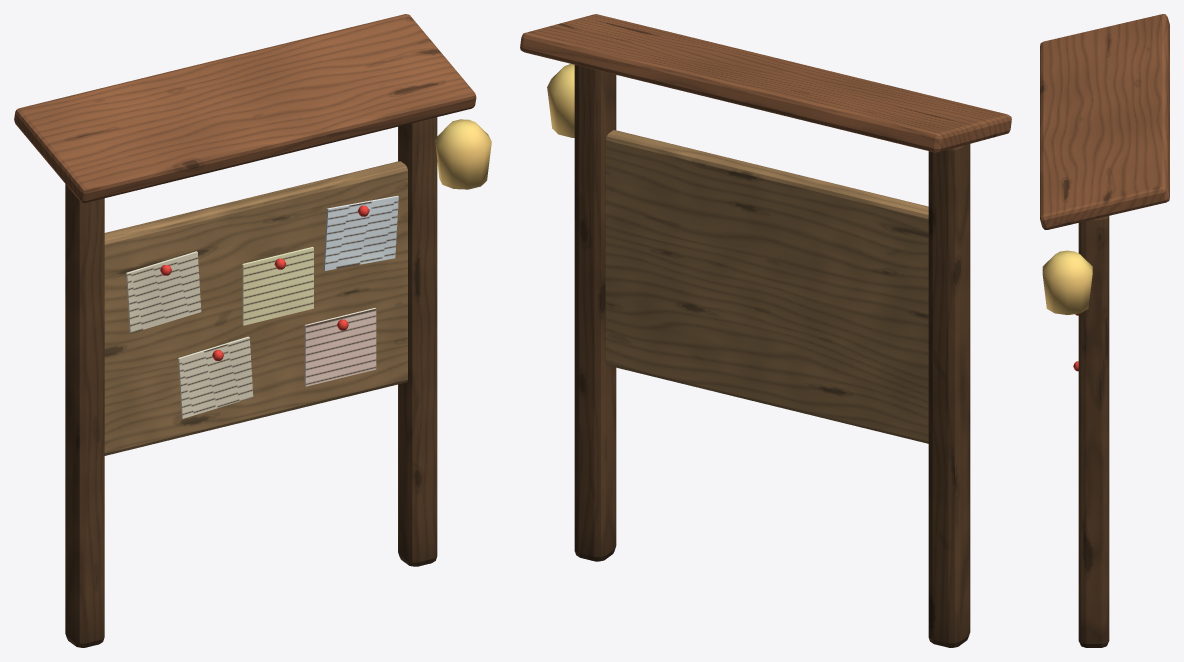
Rendered from order_board.glb.
3 views of the same model, side by side, from view 1: azimuth 30°, elevation 25°; view 2: azimuth 150°, elevation 25°; view 3: azimuth 270°, elevation 25° (orthographic). The views are drawn at different scales.
Parts seen in each view (by area): view 1: OrderBoard; view 2: OrderBoard; view 3: OrderBoard.
Boxes of the visible parts, x1,y1,x2,y2 form: OrderBoard: (14, 14, 491, 647); OrderBoard: (520, 14, 1011, 647); OrderBoard: (1040, 14, 1169, 647).
Size of the model in its own units: 2.02 by 2.36 by 0.5912.
1 material, 1 textured.
